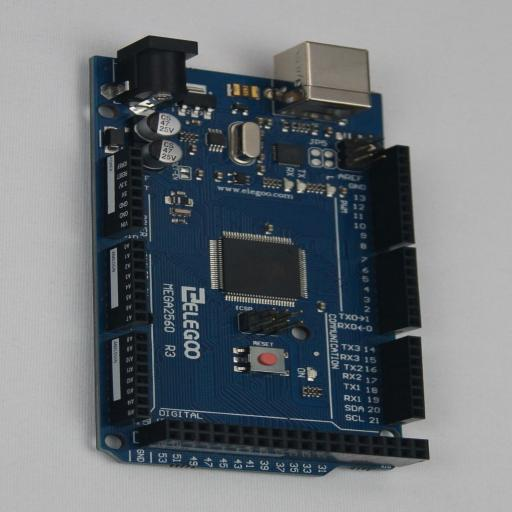Arduino Mega 2560 -Blue-: (89, 35, 429, 477)
